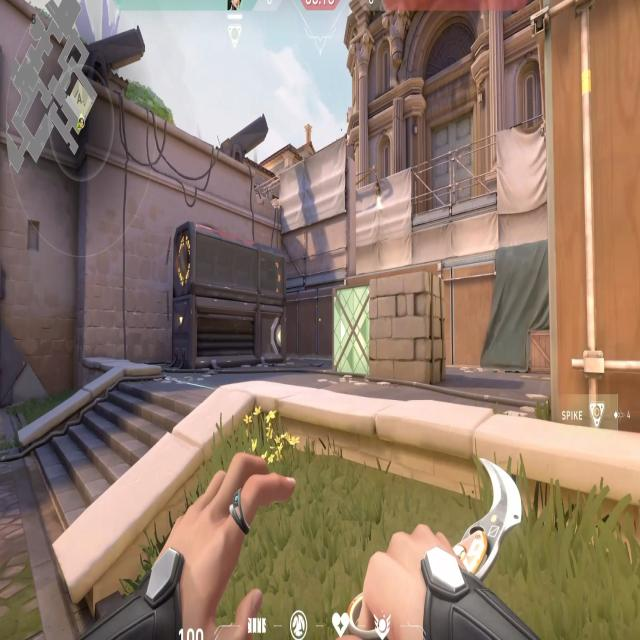A_Heaven_Wall: (278, 156, 353, 281)
A_Site_Box: (332, 281, 441, 383)
